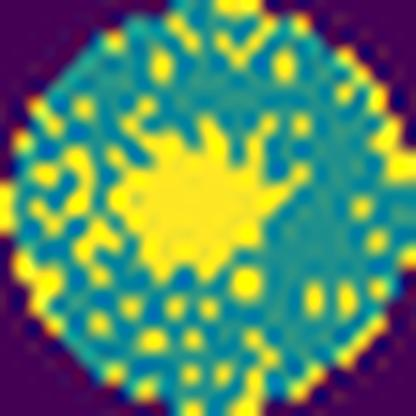Center: (102, 94, 312, 286)
